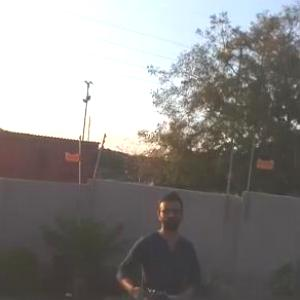follow: (110, 180, 203, 299)
